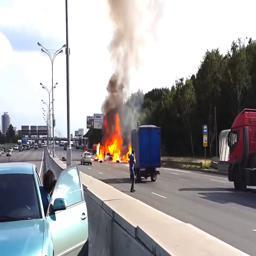fire: (95, 113, 132, 163)
